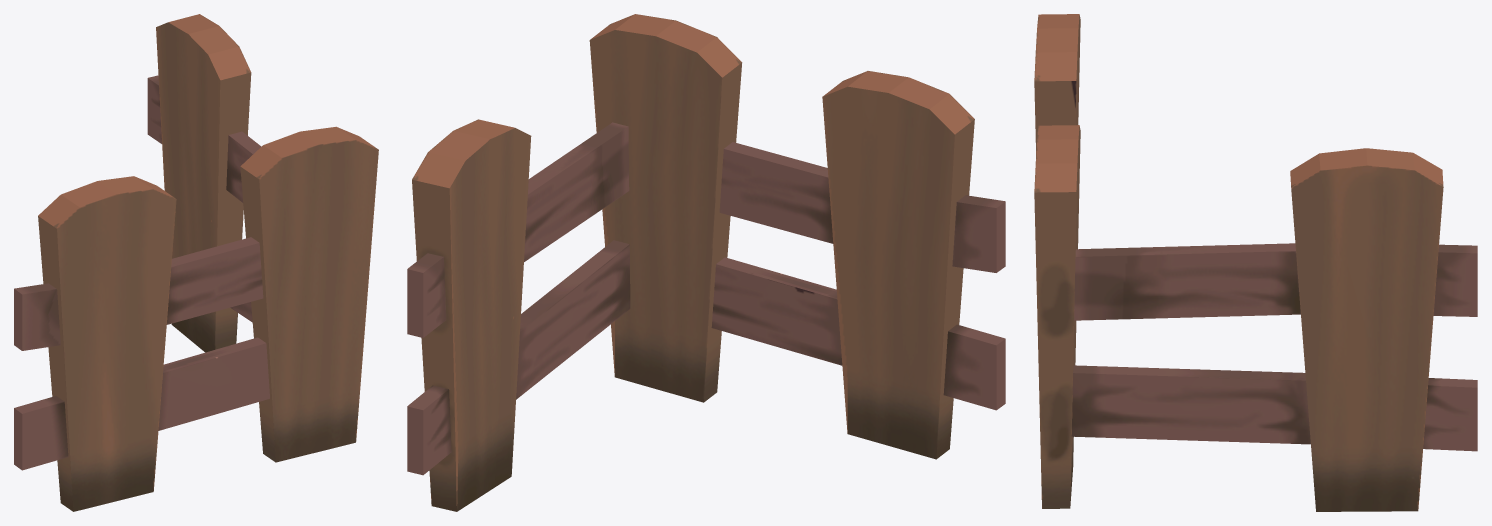
File: fence_corner.gltf
The picture shows the model from 3 angles, left to right: view 1: azimuth 30°, elevation 25°; view 2: azimuth 150°, elevation 25°; view 3: azimuth 270°, elevation 25°; orthographic projection. The views are drawn at different scales.
Parts seen in each view (by area): view 1: FenceCornerMesh; view 2: FenceCornerMesh; view 3: FenceCornerMesh.
Boxes of the visible parts, <box> form: FenceCornerMesh: <box>14,14,378,511</box>; FenceCornerMesh: <box>407,14,1005,511</box>; FenceCornerMesh: <box>1034,14,1477,511</box>.
Size of what is drawn, in the model's own units: 1.08 by 0.919 by 1.06.
1 material, 1 textured.
